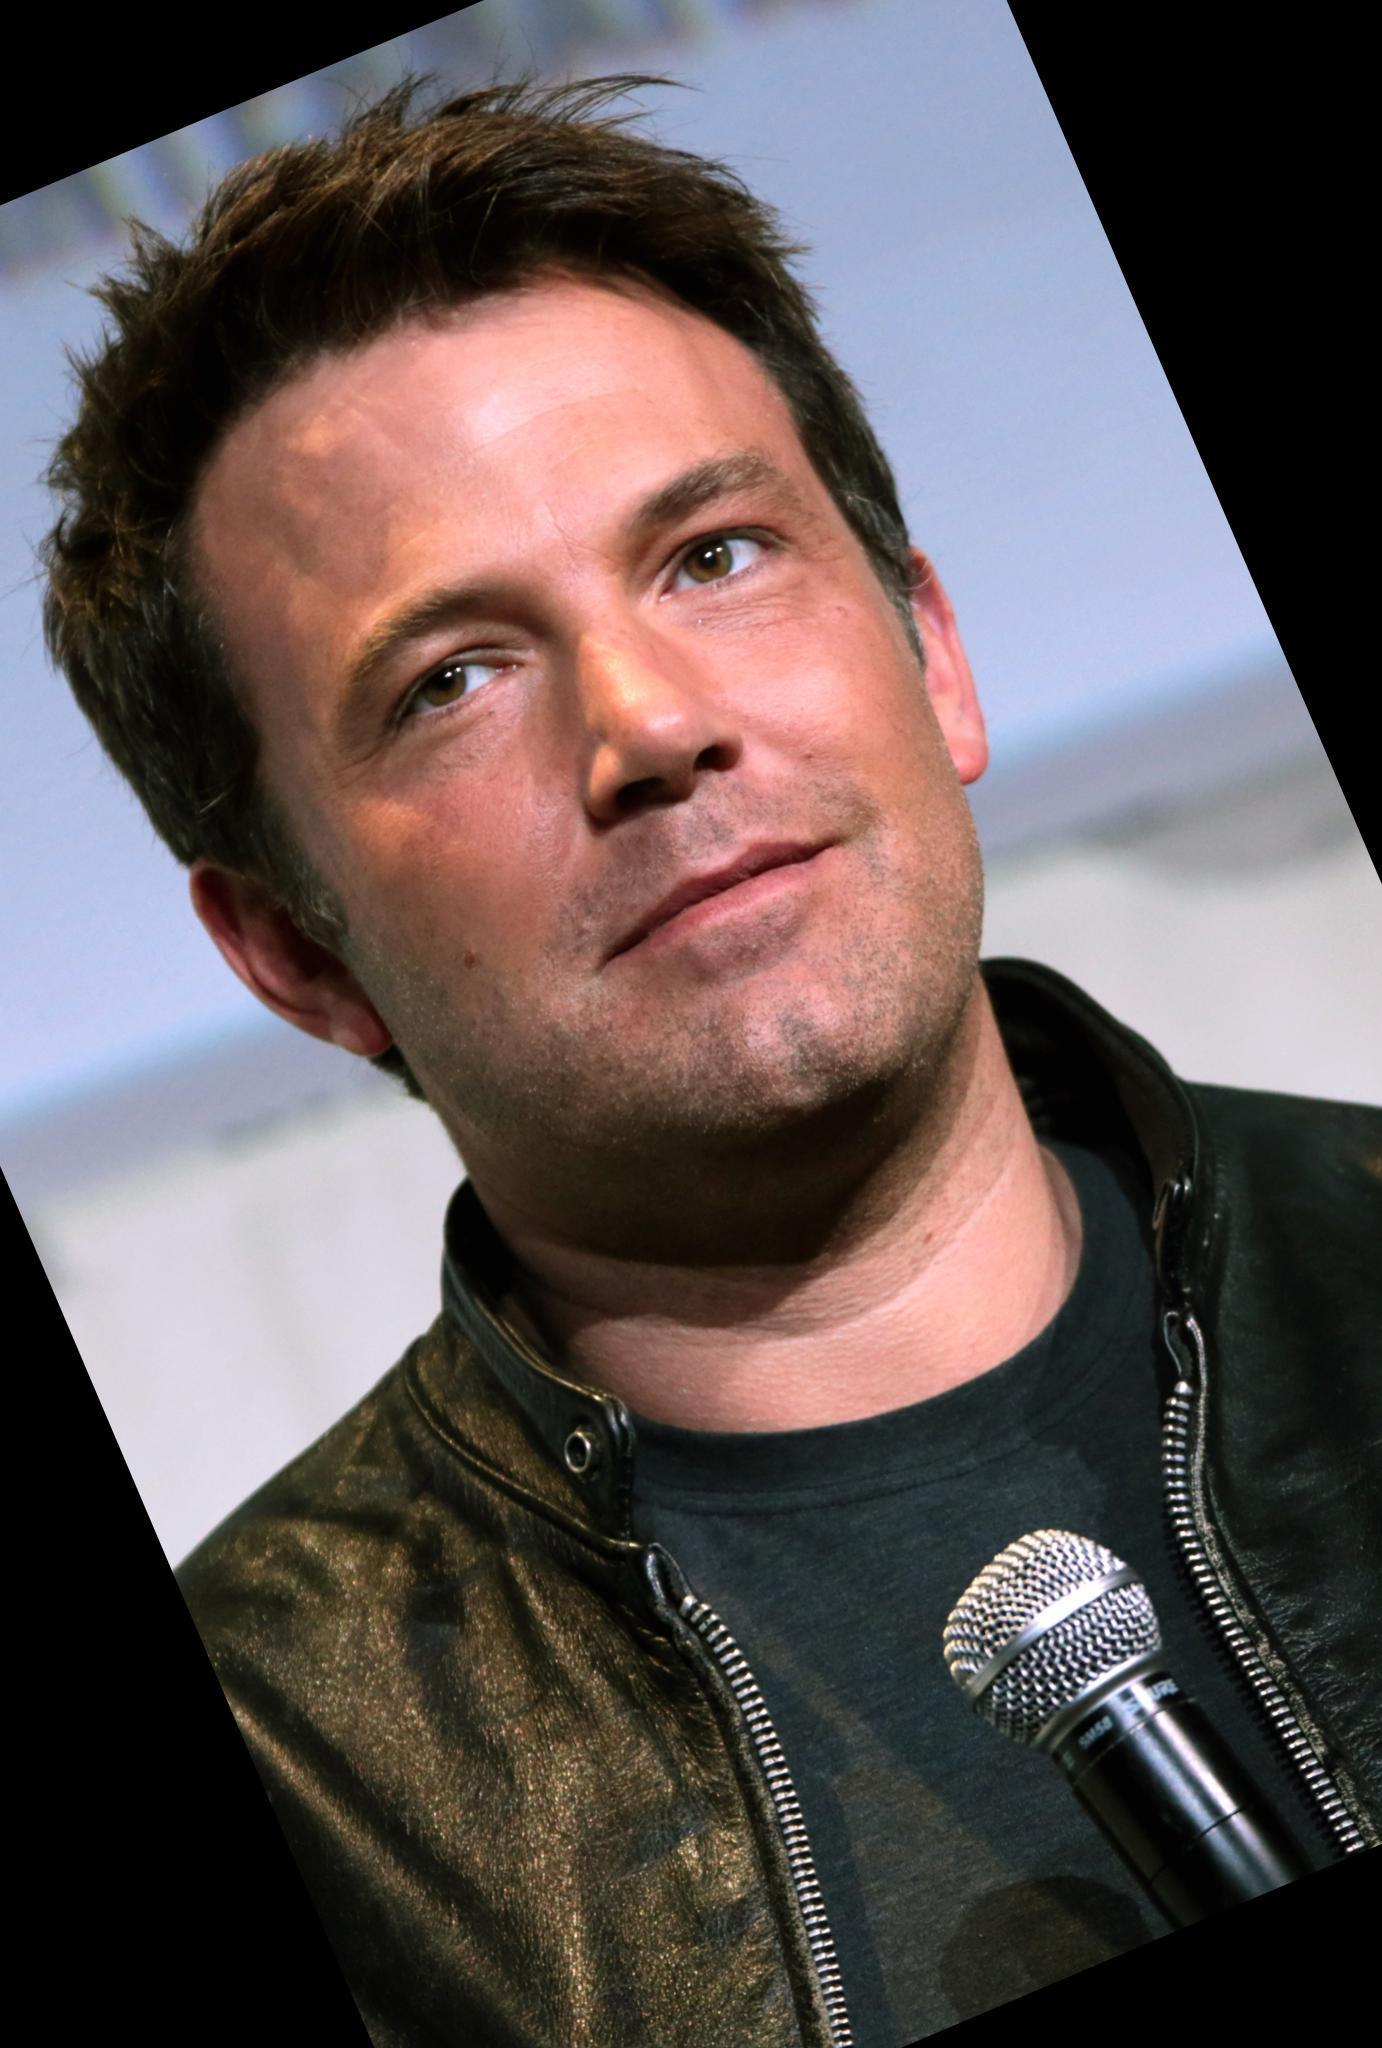Sober: (271, 312, 921, 1110)
